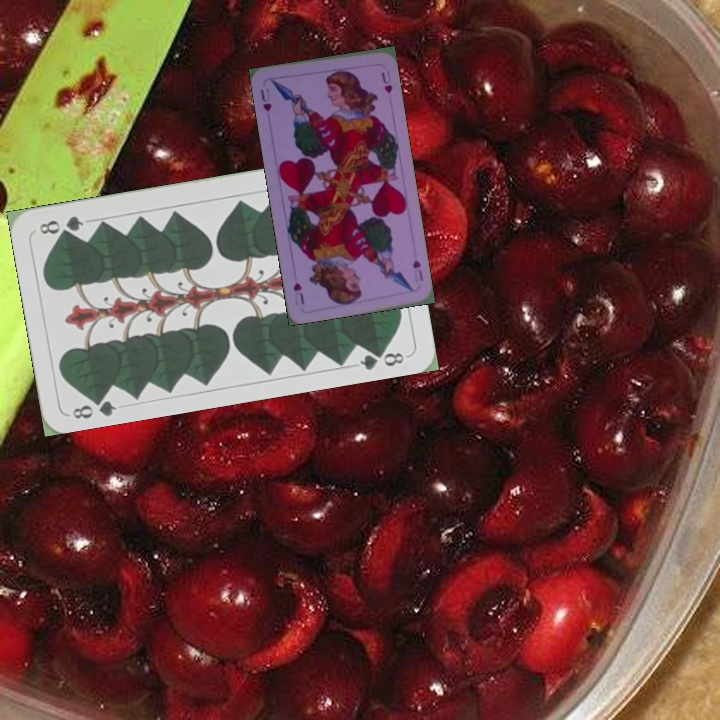G8: (68, 390, 119, 422)
HU: (257, 85, 274, 114), (409, 256, 426, 285)
